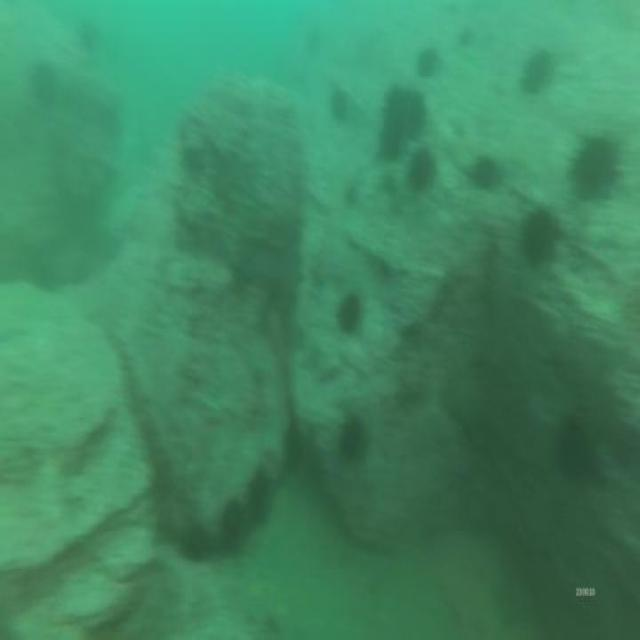echinus: (382, 88, 422, 156), (574, 145, 612, 196), (559, 420, 589, 480), (519, 205, 550, 261), (524, 50, 551, 94), (410, 147, 434, 188), (33, 65, 58, 104), (250, 472, 268, 524), (340, 414, 362, 455), (473, 155, 498, 191), (182, 518, 205, 556), (221, 498, 242, 532), (340, 296, 359, 330), (415, 46, 435, 76), (332, 88, 349, 118)
